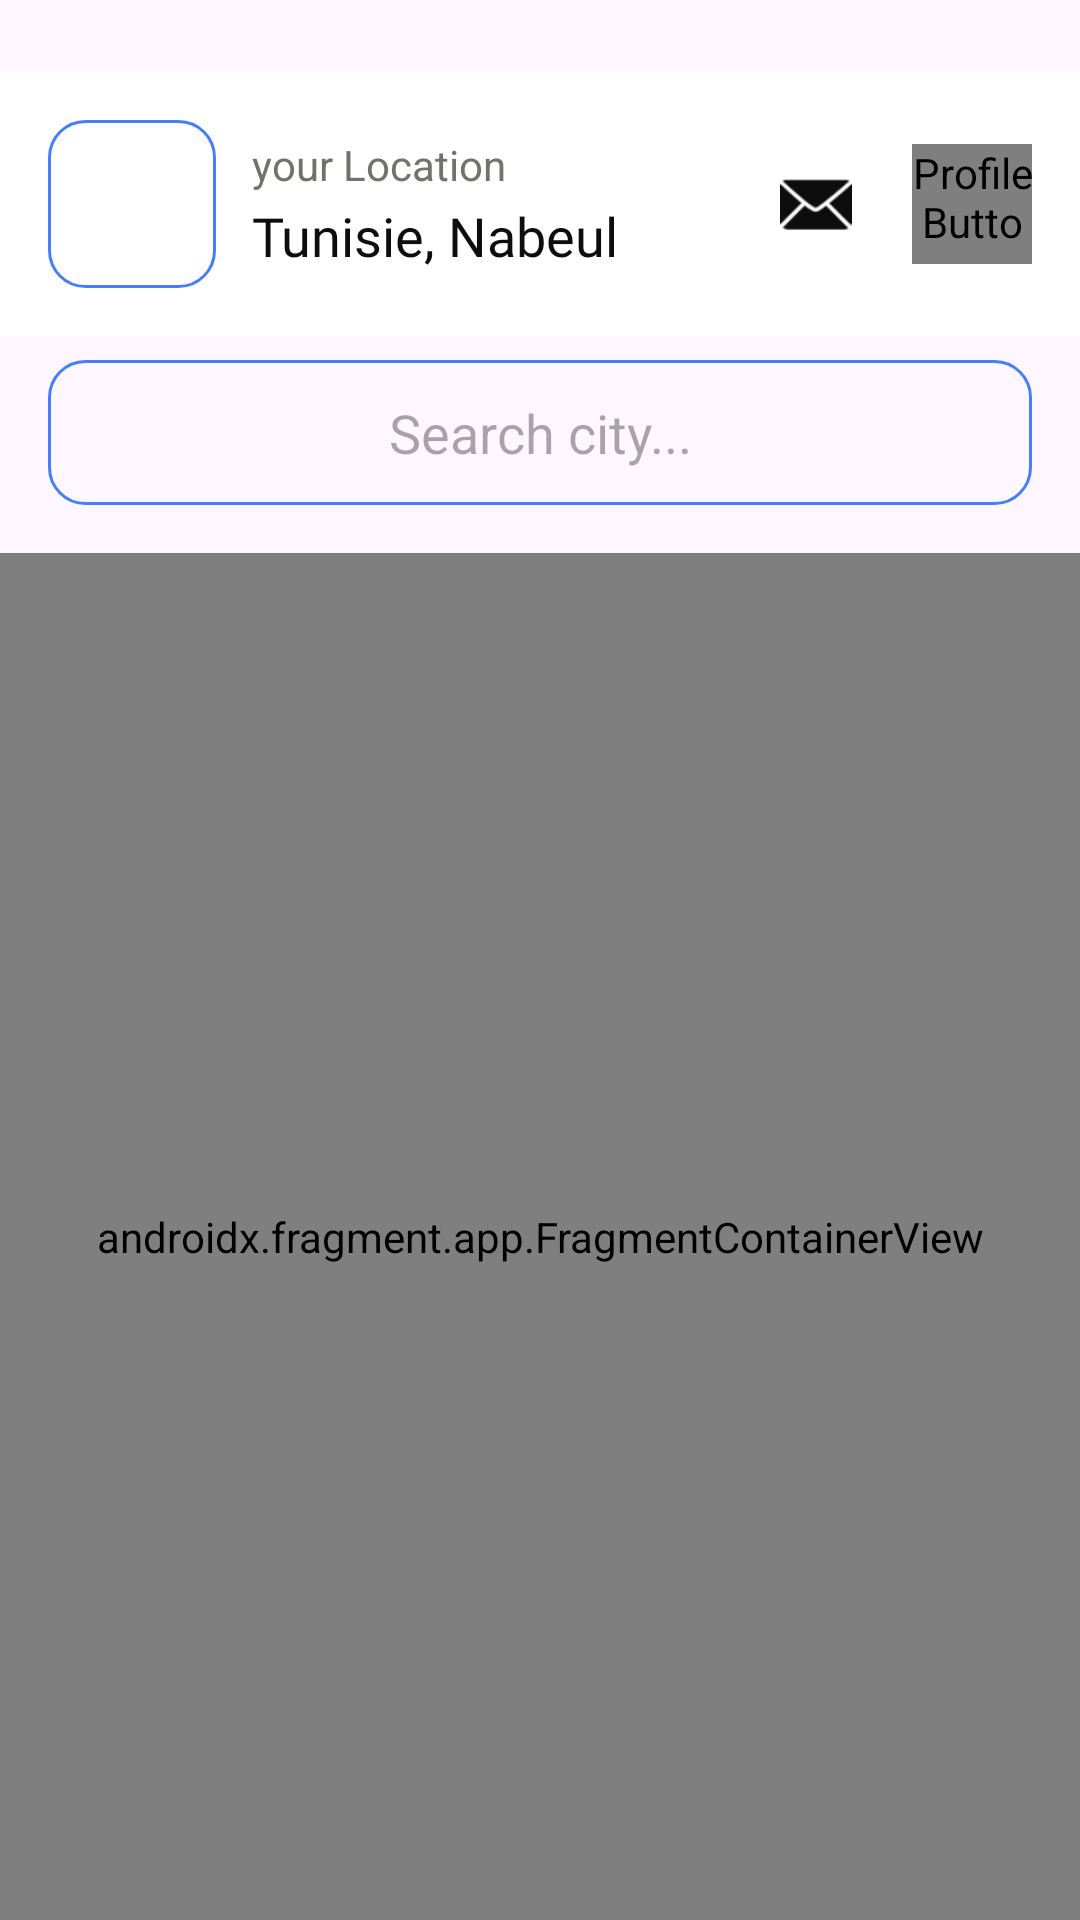

Where icons sit on this 1080x1920 app screen, as (x1, y1, x2, y2):
email: (780, 179, 852, 230)
